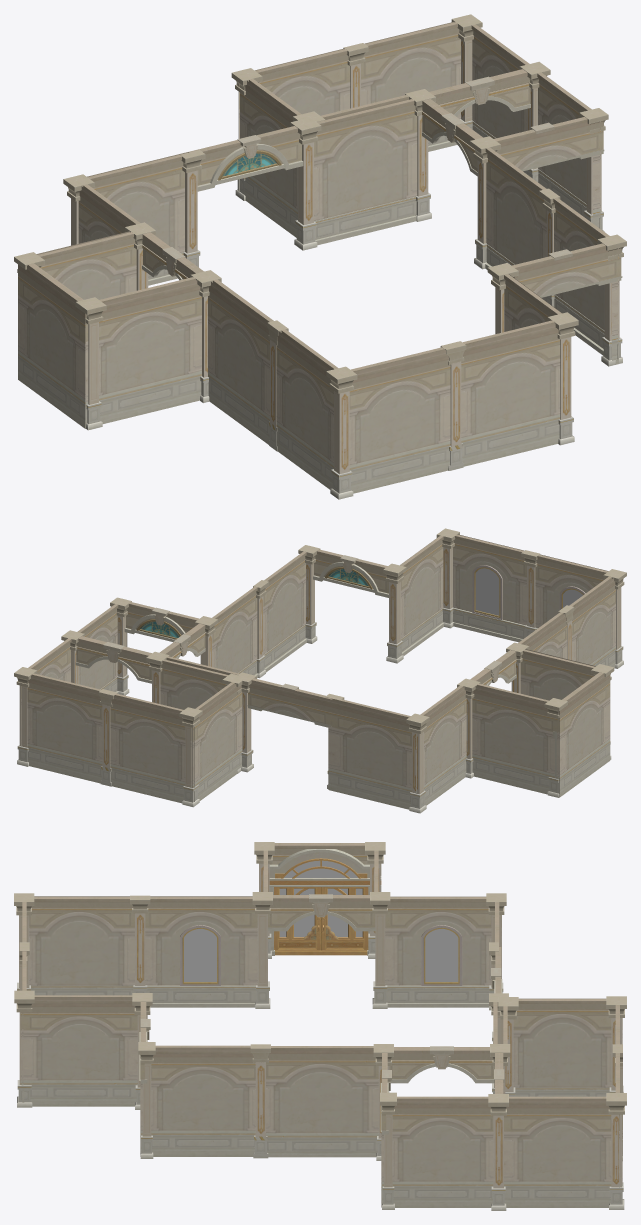
The model's file is Homeworld_Interior_Fd_Room_K_Wall_01_Vo.fbx.
The picture shows the model from 3 angles, top to bottom: view 1: azimuth 30°, elevation 25°; view 2: azimuth 150°, elevation 25°; view 3: azimuth 270°, elevation 25°; orthographic projection. The views are drawn at different scales.
Parts seen in each view (by area): view 1: Homeworld_Interior_Fd_Room_K_Filling_01_Vo, Homeworld_Interior_Fd_Room_Wall_01_Vo (×10), Homeworld_Interior_Fd_Room_Pillar_01_Vo (×14), Homeworld_Interior_Fd_Room_Door_02_Vo (×3), Homeworld_Interior_Fd_Room_Wall_04_Vo (×3), Homeworld_Interior_Fd_Room_Pillar_02_Vo (×5), Homeworld_Interior_Fd_Room_Wall_07_Vo; view 2: Homeworld_Interior_Fd_Room_K_Filling_01_Vo, Homeworld_Interior_Fd_Room_Wall_01_Vo (×6), Homeworld_Interior_Fd_Room_Pillar_01_Vo (×15), Homeworld_Interior_Fd_Room_Wall_02_Vo (×2), Homeworld_Interior_Fd_Room_Door_02_Vo (×3), Homeworld_Interior_Fd_Room_Wall_04_Vo (×3), Homeworld_Interior_Fd_Room_Pillar_02_Vo (×3), Homeworld_Interior_Fd_Room_Wall_01_Vo (1), Homeworld_Interior_Fd_Room_Wall_07_Vo; view 3: Homeworld_Interior_Fd_Room_K_Filling_01_Vo, Homeworld_Interior_Fd_Room_Wall_01_Vo (×3), Homeworld_Interior_Fd_Room_Wall_02_Vo (×2), Homeworld_Interior_Fd_Room_Pillar_01_Vo (×15), Homeworld_Interior_Fd_Room_Wall_07_Vo, Homeworld_Interior_Fd_Room_Wall_04_Vo (×2), Homeworld_Interior_Fd_Room_Pillar_02_Vo (×2), Homeworld_Interior_Fd_Room_Door_02_Vo.
Part boxes in pixels (x1=…): Homeworld_Interior_Fd_Room_K_Filling_01_Vo: x1=18, y1=22, x2=617, y2=493; Homeworld_Interior_Fd_Room_Wall_01_Vo (×10): x1=38, y1=22, x2=618, y2=364; Homeworld_Interior_Fd_Room_Pillar_01_Vo (×14): x1=63, y1=14, x2=626, y2=499; Homeworld_Interior_Fd_Room_Door_02_Vo (×3): x1=188, y1=117, x2=622, y2=297; Homeworld_Interior_Fd_Room_Wall_04_Vo (×3): x1=142, y1=69, x2=530, y2=280; Homeworld_Interior_Fd_Room_Pillar_02_Vo (×5): x1=180, y1=43, x2=560, y2=470; Homeworld_Interior_Fd_Room_Wall_07_Vo: x1=28, y1=263, x2=88, y2=428; Homeworld_Interior_Fd_Room_K_Filling_01_Vo: x1=27, y1=534, x2=615, y2=809; Homeworld_Interior_Fd_Room_Wall_01_Vo (×6): x1=21, y1=535, x2=595, y2=746; Homeworld_Interior_Fd_Room_Pillar_01_Vo (×15): x1=14, y1=528, x2=626, y2=813; Homeworld_Interior_Fd_Room_Wall_02_Vo (×2): x1=453, y1=534, x2=608, y2=642; Homeworld_Interior_Fd_Room_Door_02_Vo (×3): x1=124, y1=549, x2=388, y2=727; Homeworld_Interior_Fd_Room_Wall_04_Vo (×3): x1=75, y1=623, x2=516, y2=685; Homeworld_Interior_Fd_Room_Pillar_02_Vo (×3): x1=98, y1=550, x2=539, y2=786; Homeworld_Interior_Fd_Room_Wall_01_Vo (1): x1=160, y1=659, x2=242, y2=770; Homeworld_Interior_Fd_Room_Wall_07_Vo: x1=553, y1=672, x2=603, y2=793; Homeworld_Interior_Fd_Room_K_Filling_01_Vo: x1=20, y1=896, x2=611, y2=1207; Homeworld_Interior_Fd_Room_Wall_01_Vo (×3): x1=29, y1=897, x2=622, y2=1157; Homeworld_Interior_Fd_Room_Wall_02_Vo (×2): x1=145, y1=897, x2=501, y2=1007; Homeworld_Interior_Fd_Room_Pillar_01_Vo (×15): x1=14, y1=842, x2=626, y2=1210; Homeworld_Interior_Fd_Room_Wall_07_Vo: x1=269, y1=843, x2=381, y2=955; Homeworld_Interior_Fd_Room_Wall_04_Vo (×2): x1=268, y1=894, x2=494, y2=1083; Homeworld_Interior_Fd_Room_Pillar_02_Vo (×2): x1=130, y1=895, x2=270, y2=1158; Homeworld_Interior_Fd_Room_Door_02_Vo: x1=139, y1=1002, x2=150, y2=1083.
Size of what is drawn, in the model's own units: 25.55 by 5.03 by 25.41.
